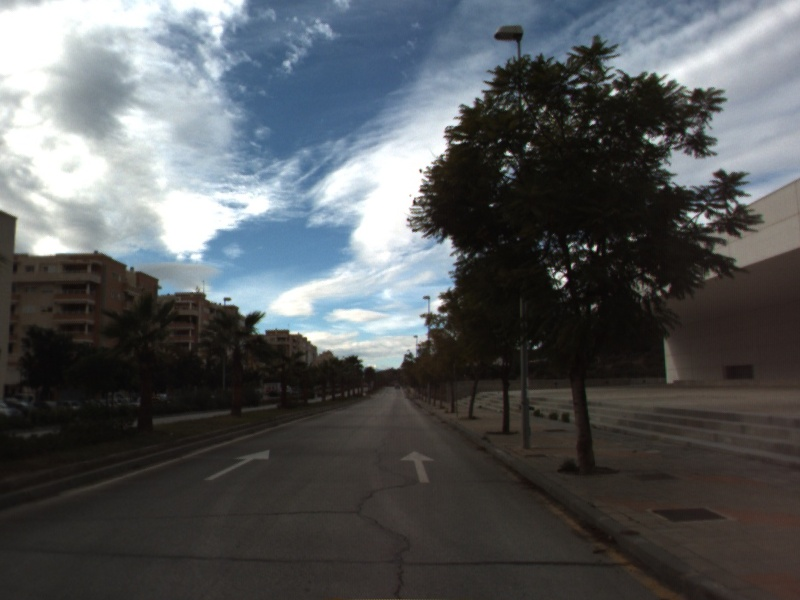STRAIGHT: (202, 448, 271, 482), (398, 449, 437, 485)
